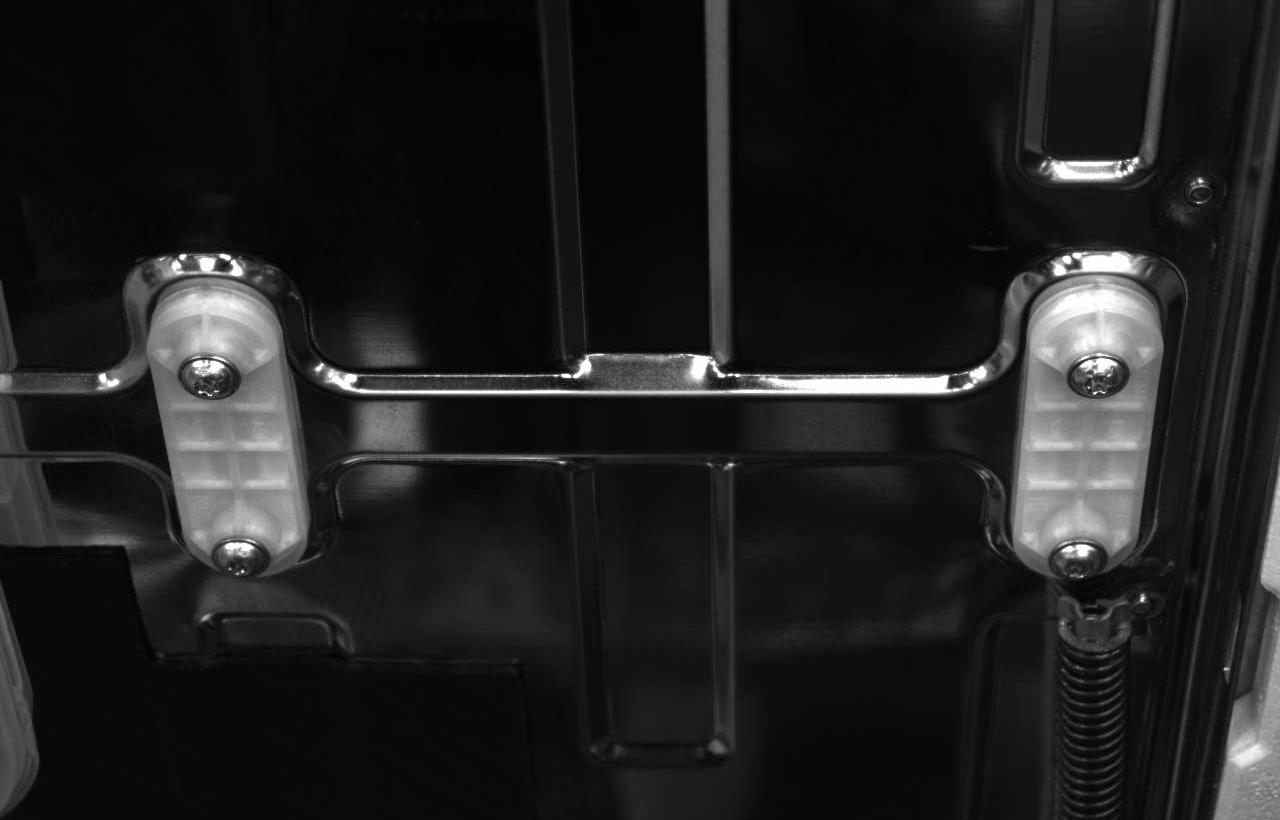vida-ok: (173, 342, 244, 409), (1069, 345, 1136, 412), (207, 525, 273, 584), (1043, 528, 1109, 587)
